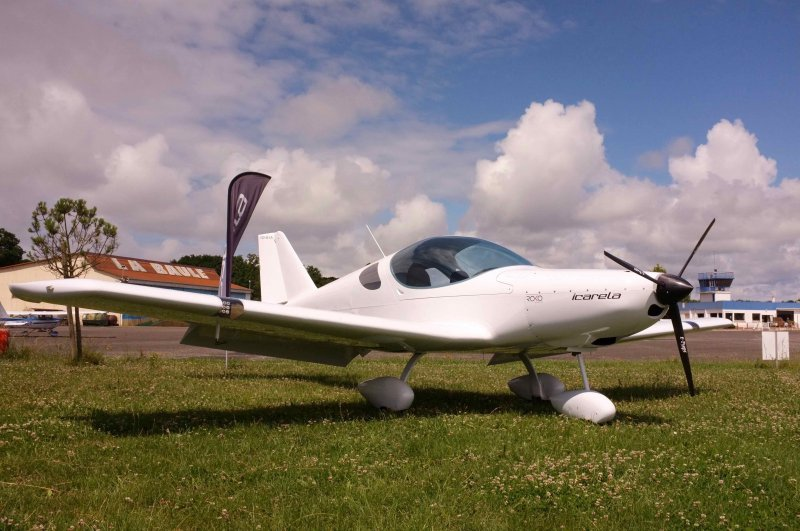Aeronef_de_loisir: (7, 221, 800, 432)
